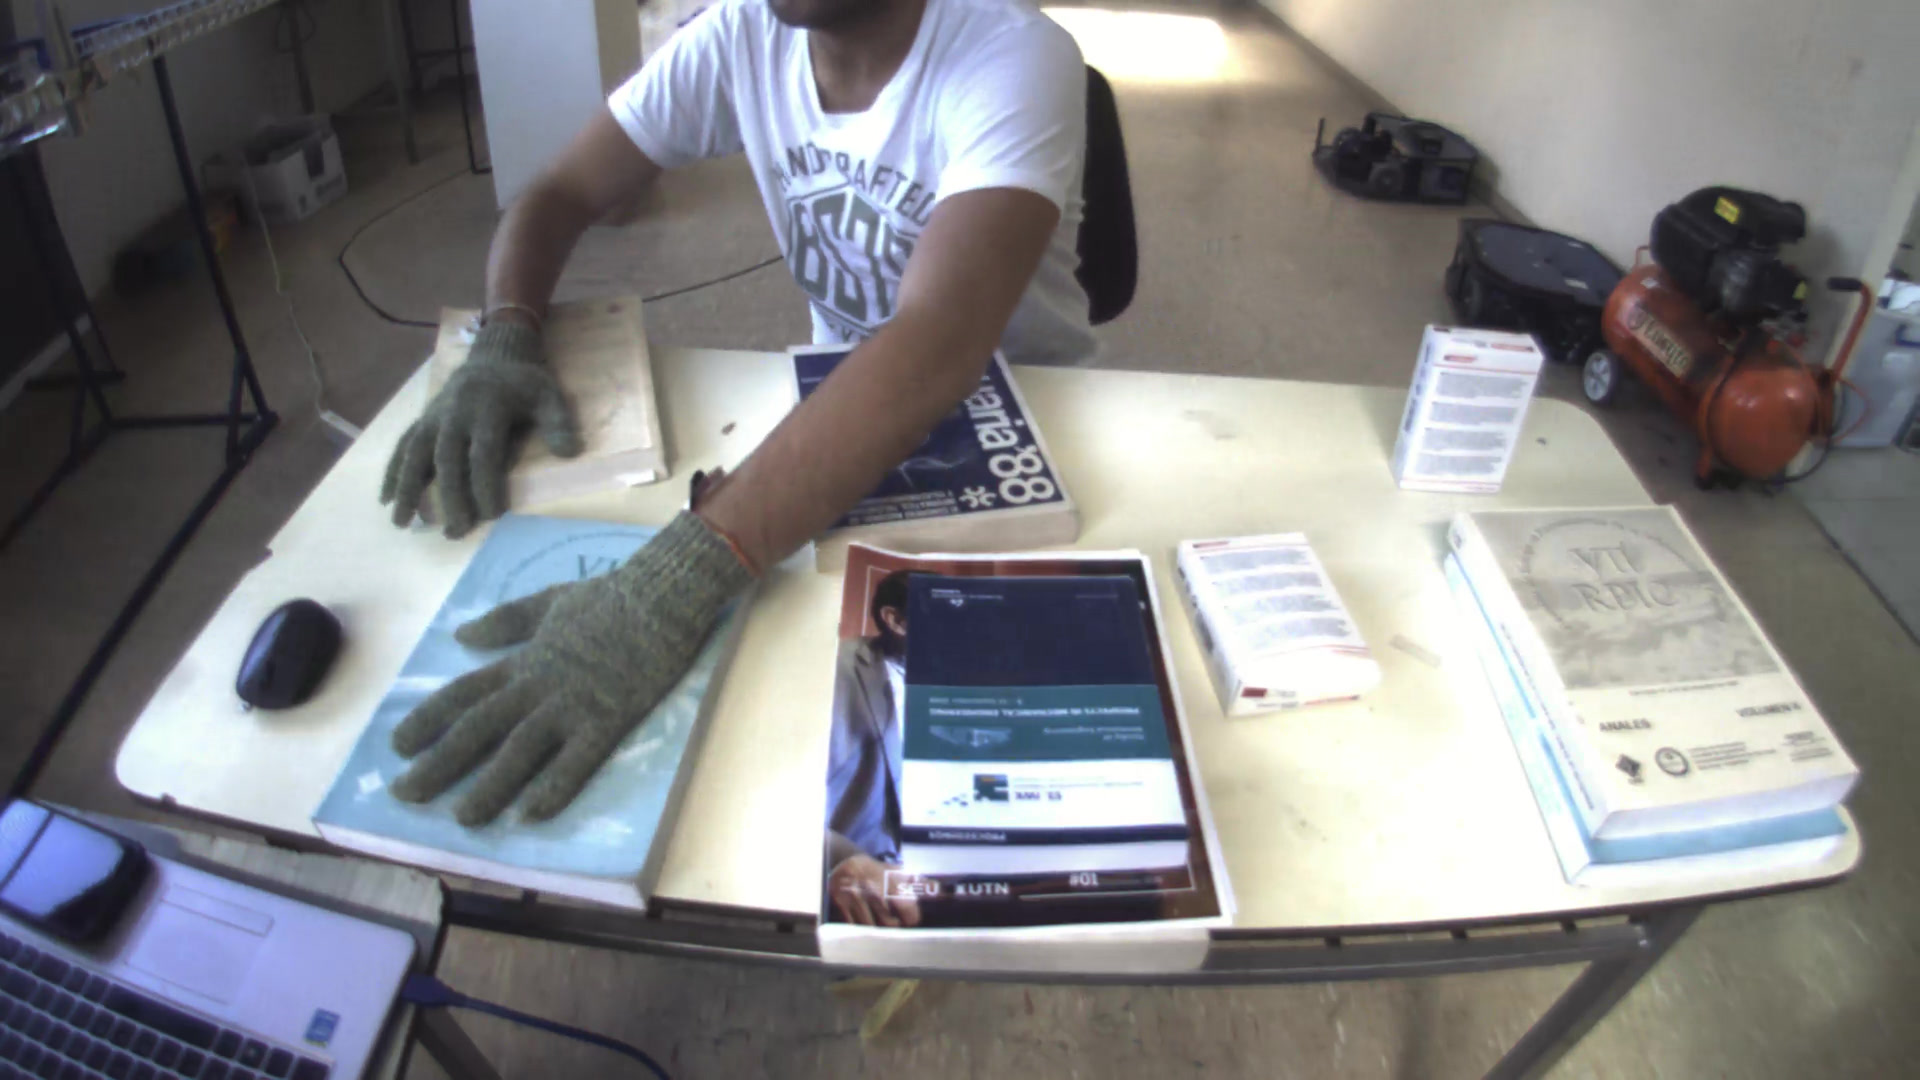hand: (367, 547, 713, 849), (375, 295, 572, 545)
